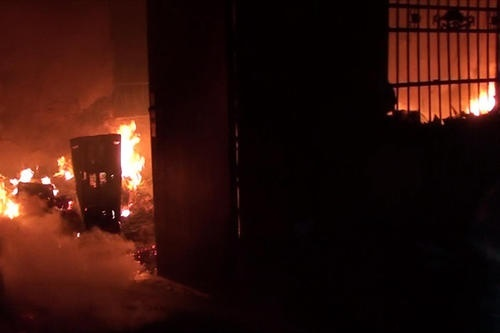fire: (116, 119, 147, 189), (463, 81, 499, 116)
